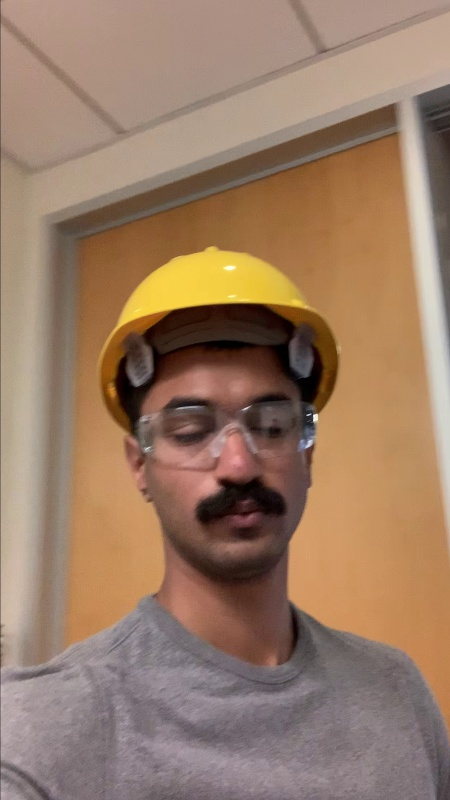glasses: (129, 398, 322, 467)
helmet: (83, 240, 357, 373)
